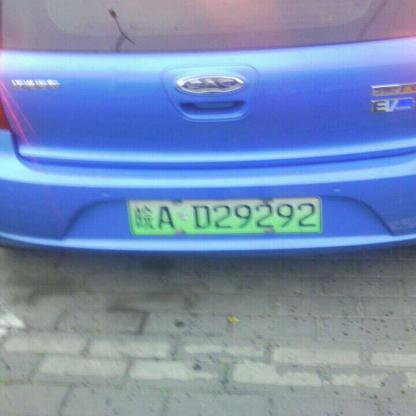lp: (130, 197, 320, 233)
